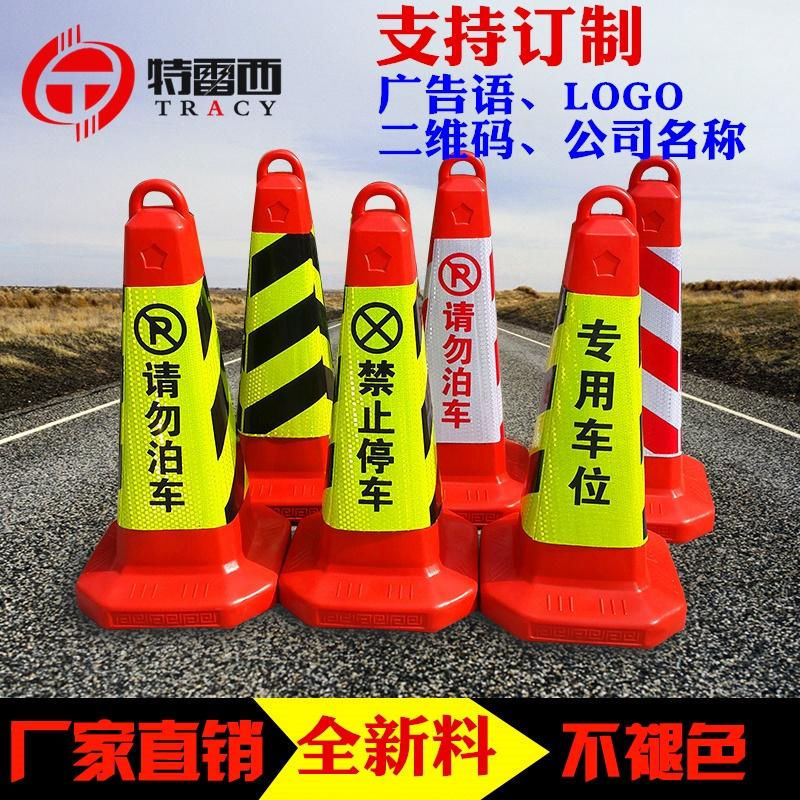cone_barrel: (88, 184, 267, 598), (292, 183, 465, 608), (498, 191, 662, 599), (412, 160, 520, 516), (235, 158, 335, 497), (622, 158, 706, 513)
